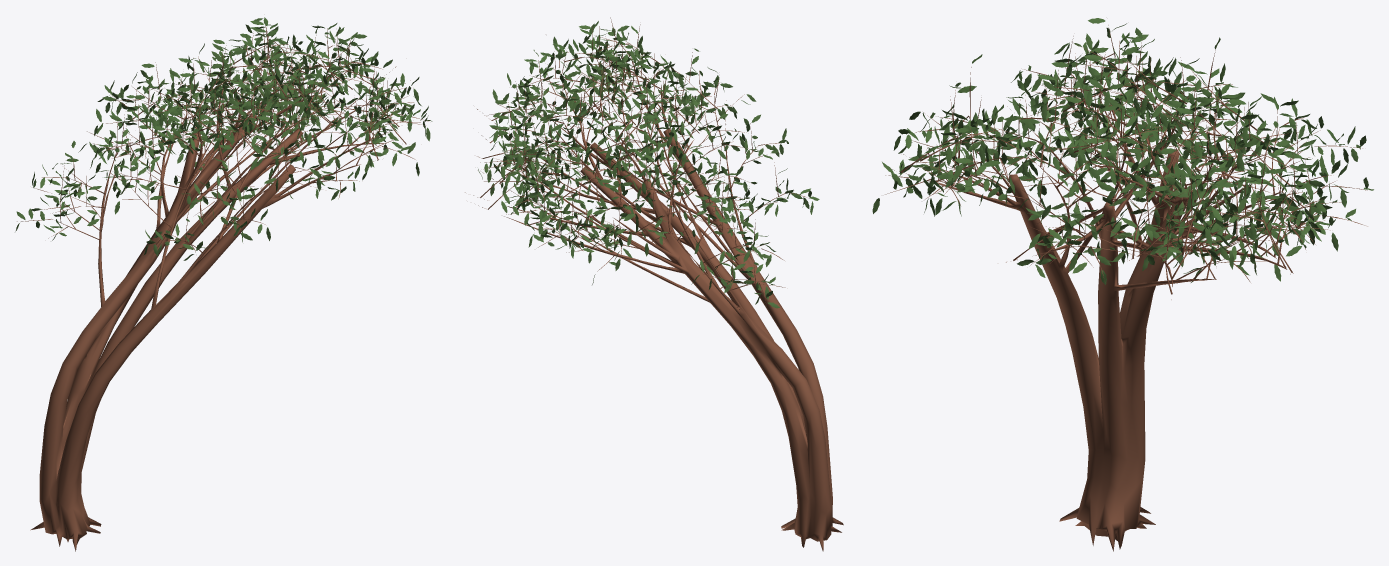
The model's file is ArbousierCanopee_2_Niveau0.fbx.
3 renders of one model, left to right at view 1: azimuth 30°, elevation 25°; view 2: azimuth 150°, elevation 25°; view 3: azimuth 270°, elevation 25°, orthographic. The views are drawn at different scales.
Visible parts, largest first — view 1: ArbousierCanopee_2_Niveau0; view 2: ArbousierCanopee_2_Niveau0; view 3: ArbousierCanopee_2_Niveau0.
Part boxes in pixels (x1,y1,x2,y2): ArbousierCanopee_2_Niveau0: (15, 17, 432, 551); ArbousierCanopee_2_Niveau0: (465, 17, 843, 551); ArbousierCanopee_2_Niveau0: (872, 18, 1373, 551).
Bounding box in the file's own units: 307 × 364 × 261.
